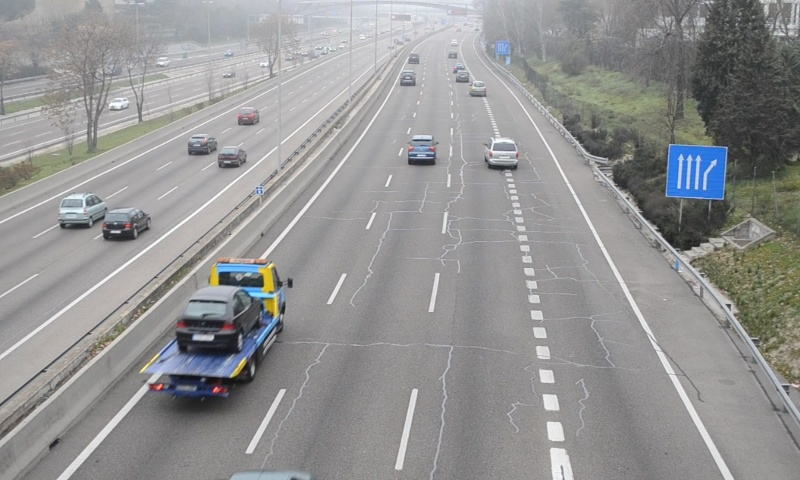car: (486, 136, 519, 168), (407, 134, 436, 162), (470, 80, 487, 96), (400, 70, 416, 86)
small-truck: (140, 258, 286, 395)
